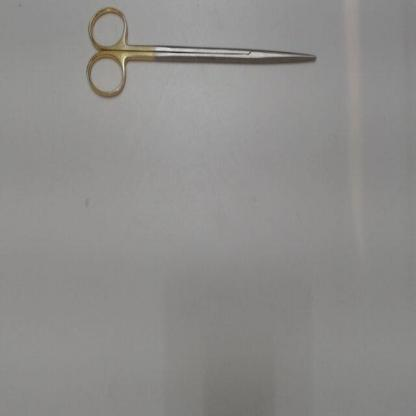7 Metzenbaum Scissors: (83, 4, 317, 102)
